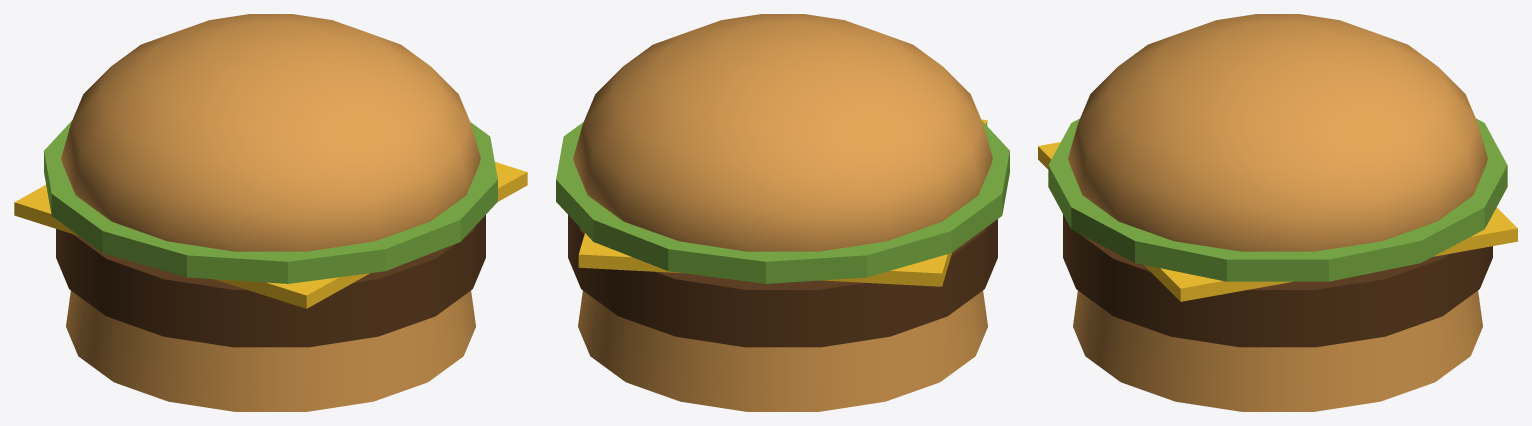
Rendered from roadevents_burger.glb.
3 views of the same model, side by side, from view 1: azimuth 30°, elevation 25°; view 2: azimuth 150°, elevation 25°; view 3: azimuth 270°, elevation 25° (orthographic).
Visible parts, largest first — view 1: Burger; view 2: Burger; view 3: Burger.
Part boxes in pixels (<box>): Burger: <box>14,14,527,411</box>; Burger: <box>556,14,1009,411</box>; Burger: <box>1038,14,1517,411</box>.
Bounding box in the file's own units: 0.8846 × 0.576 × 0.8846.
